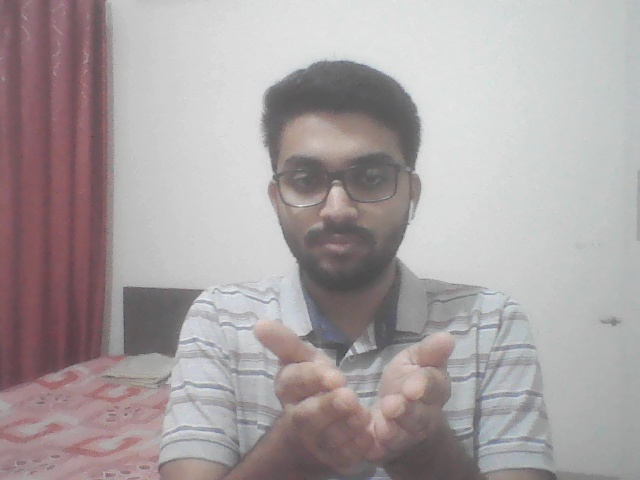book: (215, 307, 527, 480)
